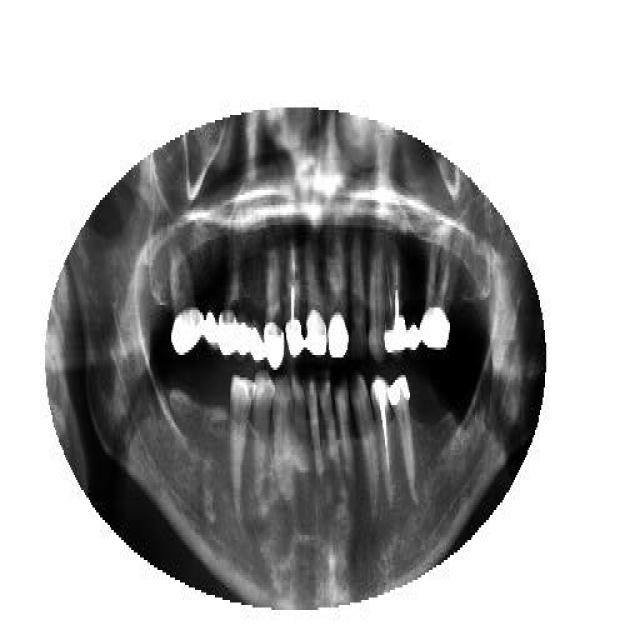Fillings: (388, 372, 422, 510), (420, 242, 464, 348), (168, 243, 204, 355), (305, 245, 329, 355), (264, 245, 284, 370), (328, 238, 348, 360), (219, 295, 239, 355), (235, 300, 253, 360), (250, 315, 265, 363), (205, 303, 219, 345), (408, 312, 422, 350)
Implant: (371, 372, 394, 500), (383, 240, 408, 355), (285, 240, 304, 358)
